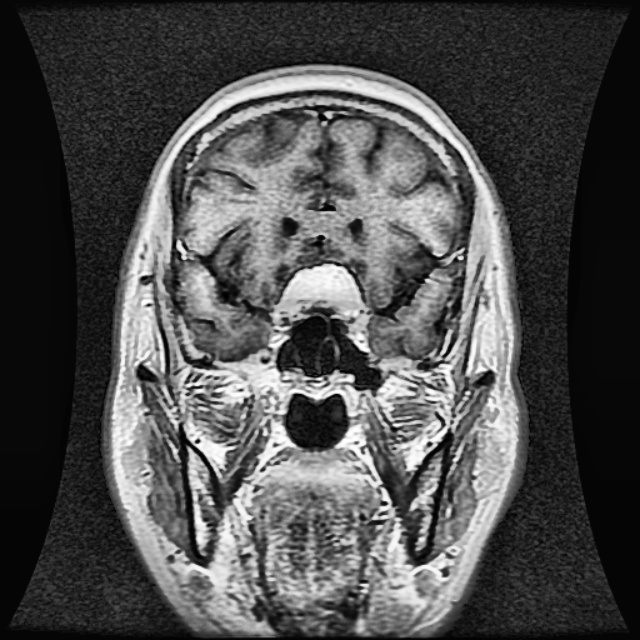Glioma: (273, 263, 362, 317)
